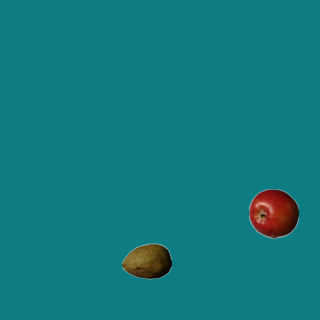Apple Braeburn: (248, 188, 298, 238)
Papaya: (121, 236, 171, 286)
